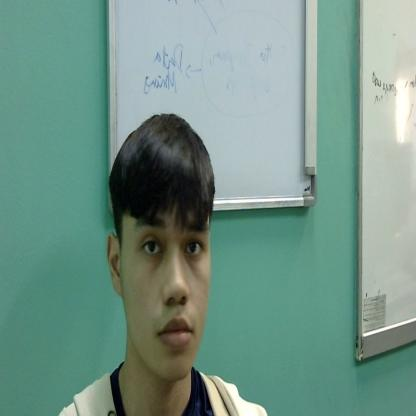Open-Eyes: (133, 212, 212, 270)
